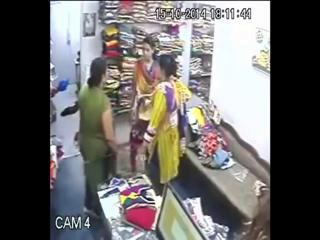Normal: (77, 57, 119, 218), (142, 54, 182, 197), (128, 38, 160, 174)
